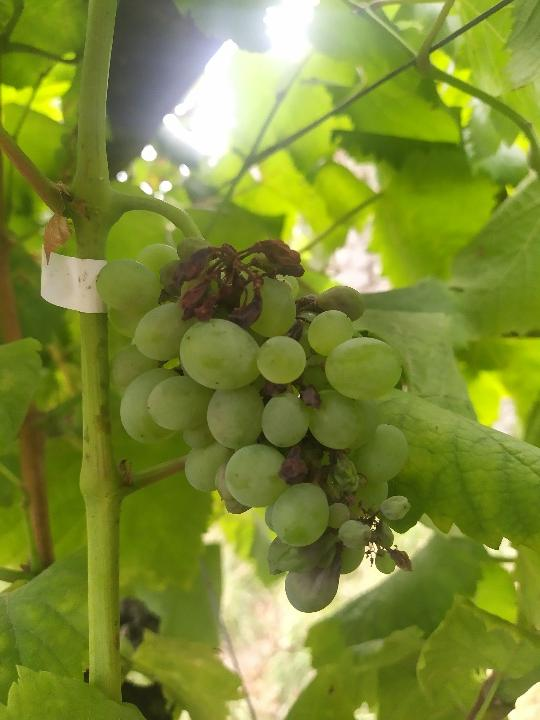grape: (92, 233, 416, 618)
